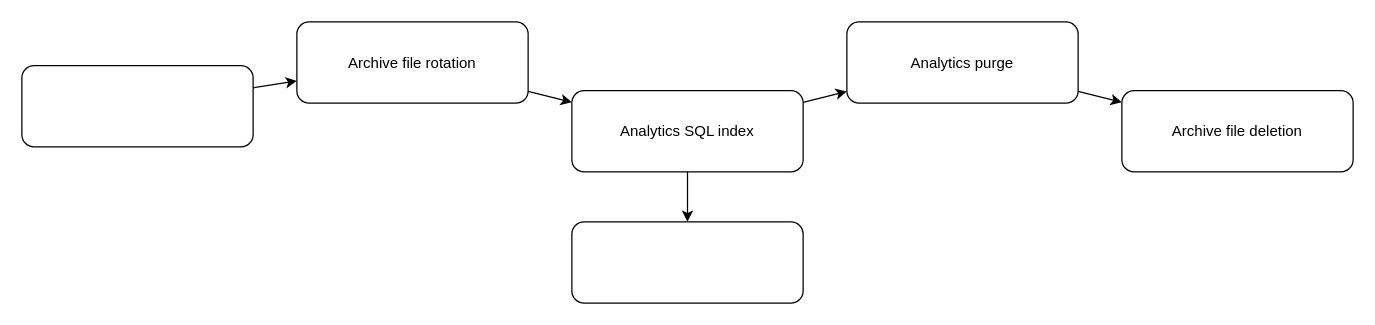
Some shapes in this 1375 by 325 pixel diagram are drawn without their labels. Here are the shapes that lost their labels. From the top down, the centre of each, then its label:
the point at 137,105: OFTP real-time logs
the point at 687,262: Raw/index divergence
